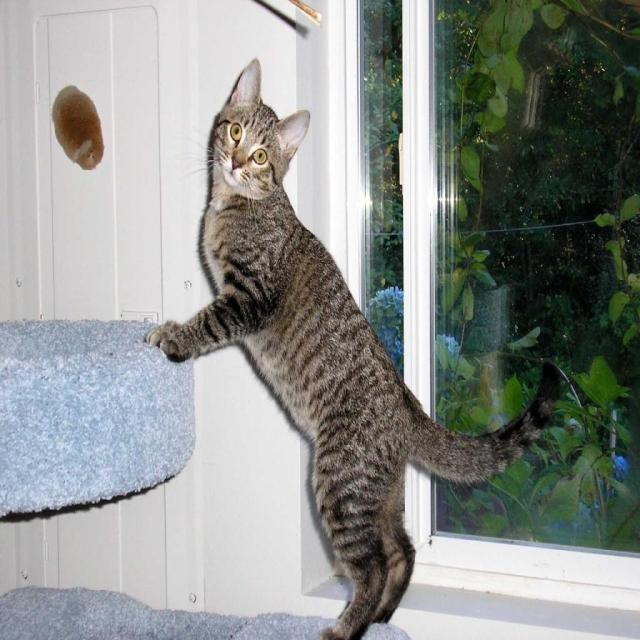Cat: (145, 57, 561, 639)
